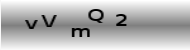2: (115, 12, 129, 28)
Q: (86, 8, 105, 24)
V: (40, 14, 59, 28)
m: (71, 27, 92, 39)
v: (23, 19, 39, 30)
